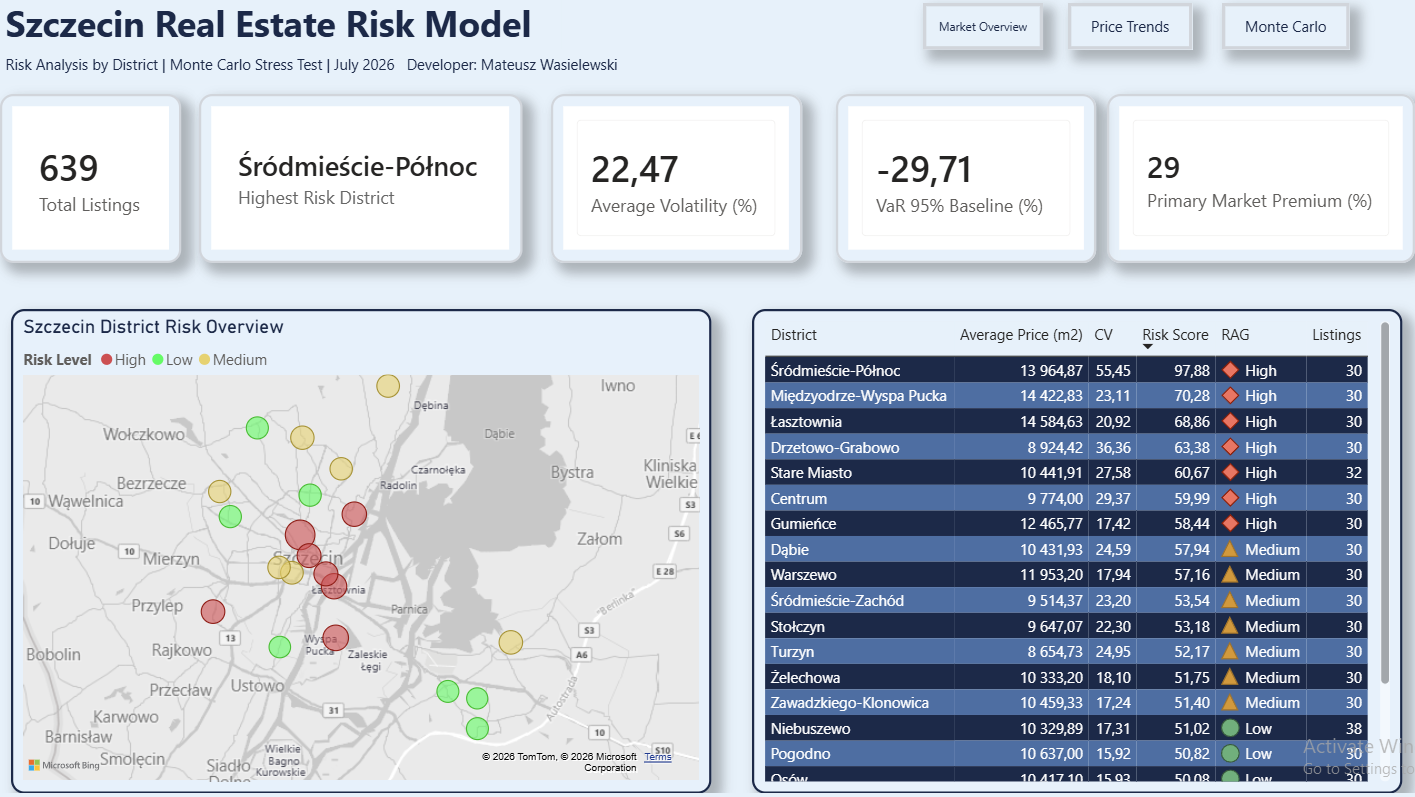

What the dashboard file says about the page in this screenshot:
{"tool":"powerbi","page":{"name":"Risk Summary Page","canvas":[1280,720],"ordinal":0},"visuals":[{"type":"textbox","box":[0,0,504.8,58.4],"z":0},{"type":"textbox","box":[0,50.6,618.6,32.1],"z":1000},{"type":"tableEx","fields":{"Values":["District Risk.District","District Risk.Avg_Price_m2","District Risk.CV","District Risk.Risk_Score","District Risk.RAG","District Risk.Listings"]},"box":[676,284,584.6,435.7],"z":2000},{"type":"map","title":"Szczecin District Risk Overview","fields":{"Y":["DistrictCoords.Latitude"],"X":["DistrictCoords.Longitude"],"Size":["Avg(District Risk.Risk Score)"],"Series":["District Risk.RAG"]},"box":[9.7,284,630.3,435.7],"z":3000},{"type":"cardVisual","fields":{"Data":["District Risk.Total Listings"]},"box":[0,90.5,163.4,151.7],"z":4000},{"type":"cardVisual","fields":{"Data":["District Risk.Highest Risk District"]},"box":[179,90.5,290.8,151.7],"z":5000},{"type":"cardVisual","fields":{"Data":["District Risk.Avg Volatility"]},"box":[496,90.5,225.7,151.7],"z":6000},{"type":"cardVisual","fields":{"Data":["Monte Carlo.VaR 95% Baseline"]},"box":[751.9,90.5,234.4,151.7],"z":7000},{"type":"cardVisual","fields":{"Data":["District Risk.Primary Market Premium"]},"box":[996,90.5,277.2,151.7],"z":8000},{"type":"actionButton","box":[1099.1,8.8,114.8,41.8],"z":8001},{"type":"actionButton","box":[961,8.8,111.9,41.8],"z":8002},{"type":"actionButton","box":[830.6,8.8,108,41.8],"z":8003}]}

Visuals, with their boxes on the page's 1280x720 design canvas (x1, y1, x2, y2). These are canvas units, not pixel positions in the 1415x797 screenshot, which may show the page scaled, cropped or inside an application window:
textbox: {"left": 0, "top": 0, "right": 505, "bottom": 58}
textbox: {"left": 0, "top": 51, "right": 619, "bottom": 83}
tableEx - District Risk.District x District Risk.Avg_Price_m2: {"left": 676, "top": 284, "right": 1261, "bottom": 720}
"Szczecin District Risk Overview" map: {"left": 10, "top": 284, "right": 640, "bottom": 720}
cardVisual - District Risk.Total Listings: {"left": 0, "top": 90, "right": 163, "bottom": 242}
cardVisual - District Risk.Highest Risk District: {"left": 179, "top": 90, "right": 470, "bottom": 242}
cardVisual - District Risk.Avg Volatility: {"left": 496, "top": 90, "right": 722, "bottom": 242}
cardVisual - Monte Carlo.VaR 95% Baseline: {"left": 752, "top": 90, "right": 986, "bottom": 242}
cardVisual - District Risk.Primary Market Premium: {"left": 996, "top": 90, "right": 1273, "bottom": 242}
actionButton: {"left": 1099, "top": 9, "right": 1214, "bottom": 51}
actionButton: {"left": 961, "top": 9, "right": 1073, "bottom": 51}
actionButton: {"left": 831, "top": 9, "right": 939, "bottom": 51}
